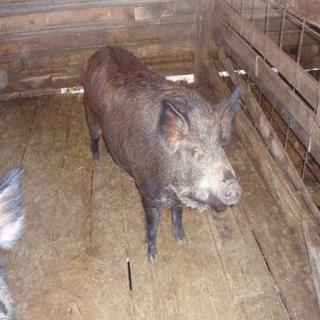Pig: (75, 46, 259, 250)
